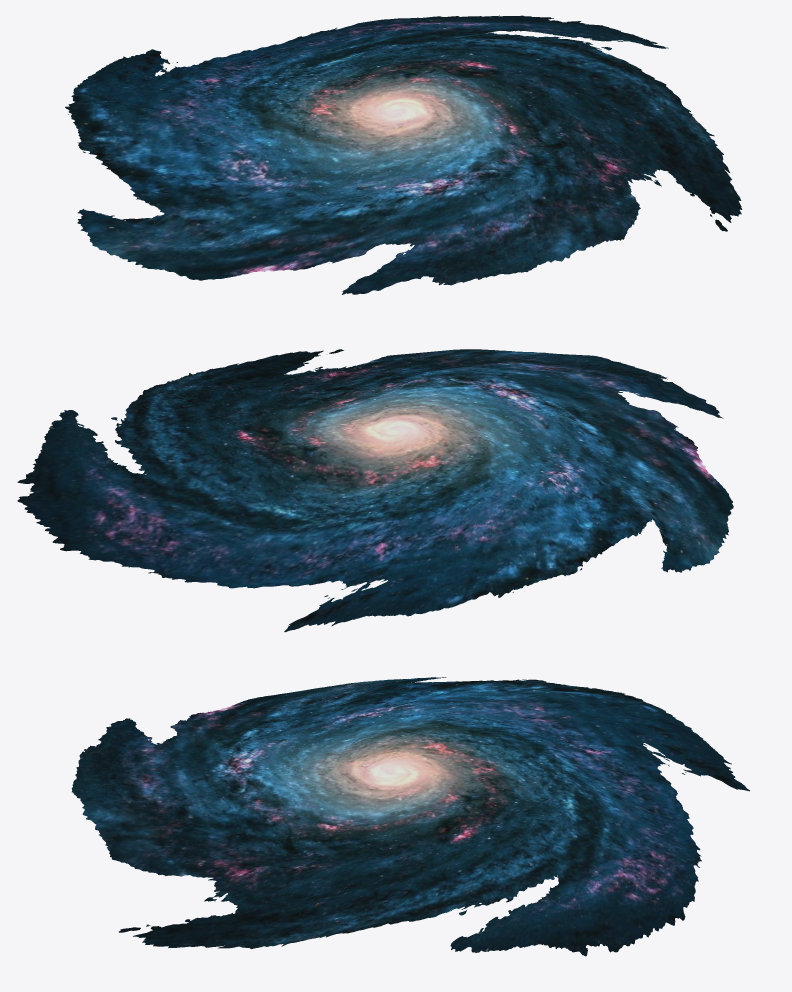
The model's file is cloud3.fbx.
The picture shows the model from 3 angles, top to bottom: view 1: azimuth 30°, elevation 25°; view 2: azimuth 150°, elevation 25°; view 3: azimuth 270°, elevation 25°; orthographic projection.
Visible parts, largest first — view 1: pCylinder1; view 2: pCylinder1; view 3: pCylinder1.
Part boxes in pixels (left/top/right/bottom): pCylinder1: left=65, top=15, right=742, bottom=294; pCylinder1: left=17, top=349, right=733, bottom=632; pCylinder1: left=71, top=677, right=749, bottom=956.
Size of the model in its own units: 101 by 10.72 by 101.
Materials: 1 (1 with a texture image).
